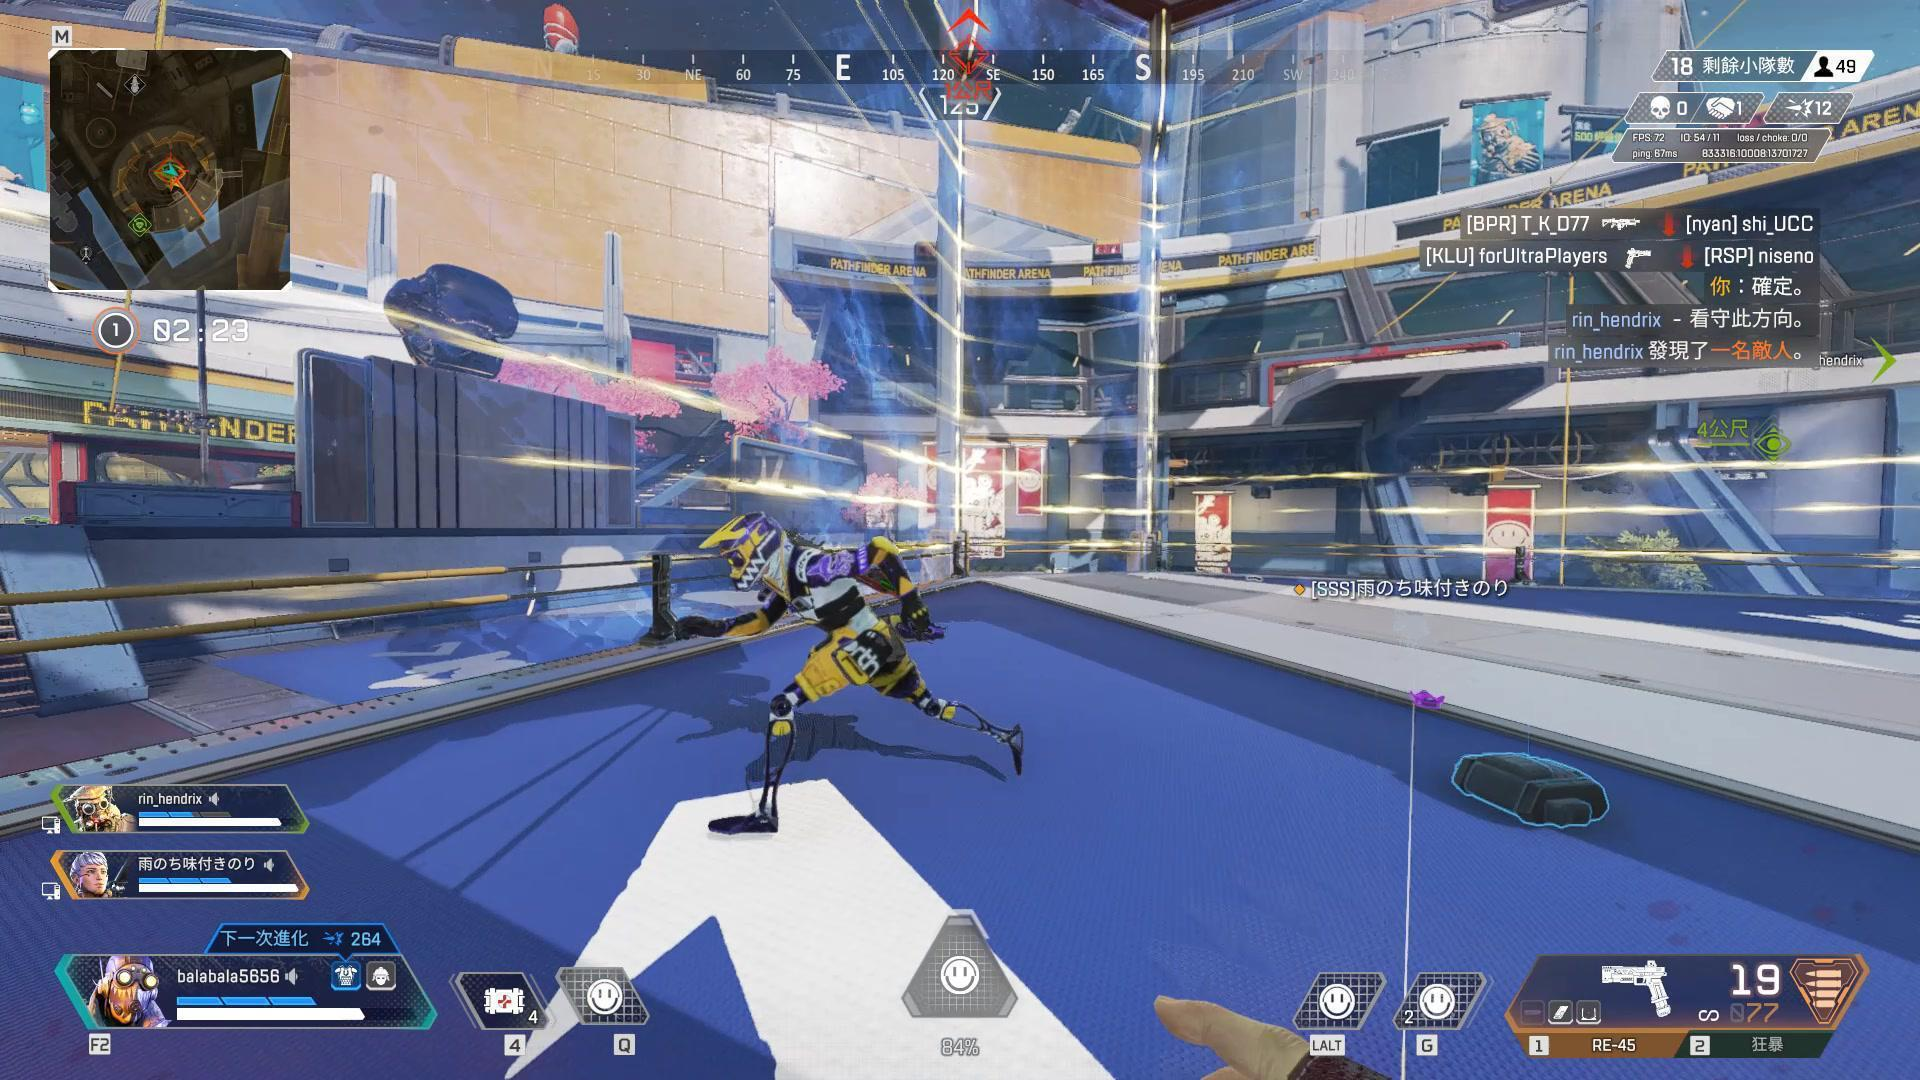avatar: (698, 511, 906, 841)
